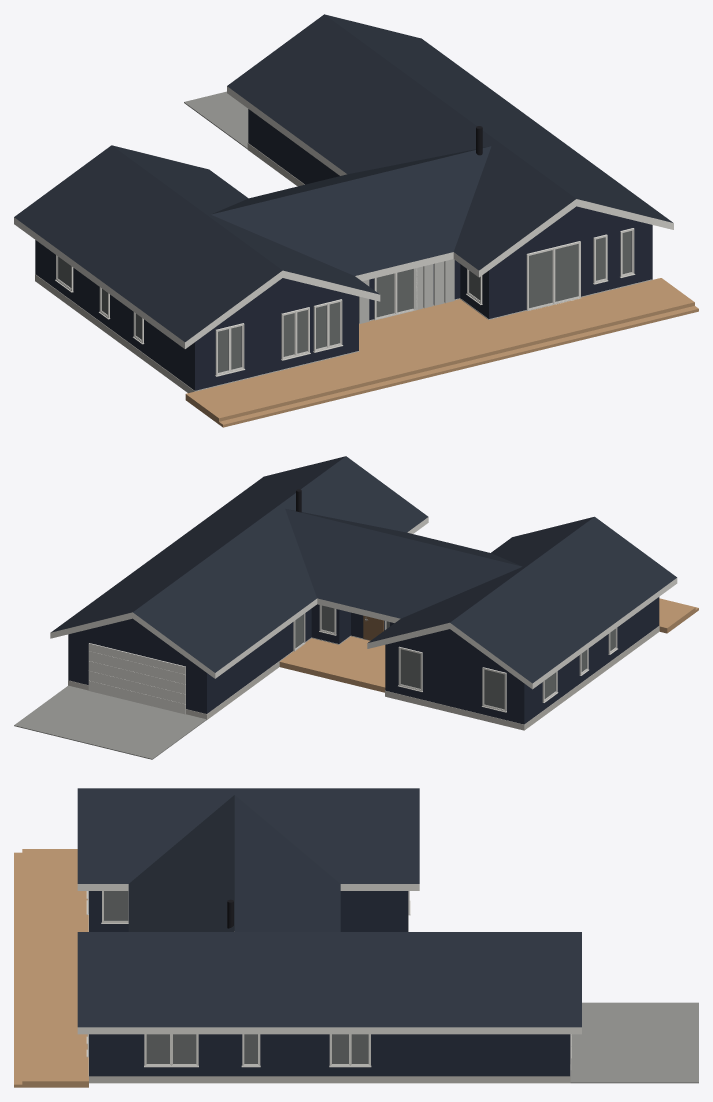
File: teder270_c0_p1_m0.glb
3 views of the same model, one above another, from view 1: azimuth 30°, elevation 25°; view 2: azimuth 150°, elevation 25°; view 3: azimuth 270°, elevation 25° (orthographic). The views are drawn at different scales.
Visible parts, largest first — view 1: roof, deck, wall, glass, curtain, fascia, frame, plinth, panel, paving; view 2: roof, wall, fascia, paving, deck, plinth, glass, curtain, frame; view 3: roof, wall, deck, paving, fascia, plinth, glass, curtain, frame.
Boxes of the visible parts, x1=… form: roof: x1=14, y1=14, x2=672, y2=341; deck: x1=185, y1=278, x2=698, y2=427; wall: x1=35, y1=109, x2=652, y2=390; glass: x1=57, y1=231, x2=631, y2=372; curtain: x1=58, y1=231, x2=631, y2=372; fascia: x1=14, y1=86, x2=673, y2=348; frame: x1=55, y1=228, x2=635, y2=376; plinth: x1=35, y1=143, x2=652, y2=393; panel: x1=359, y1=259, x2=454, y2=323; paving: x1=184, y1=91, x2=248, y2=149; roof: x1=51, y1=456, x2=676, y2=683; wall: x1=68, y1=597, x2=659, y2=724; fascia: x1=50, y1=517, x2=677, y2=714; paving: x1=14, y1=685, x2=206, y2=759; deck: x1=279, y1=598, x2=698, y2=692; plinth: x1=68, y1=626, x2=659, y2=730; glass: x1=295, y1=605, x2=615, y2=709; curtain: x1=295, y1=605, x2=615, y2=708; frame: x1=88, y1=605, x2=617, y2=712; roof: x1=77, y1=788, x2=581, y2=1027; wall: x1=89, y1=891, x2=570, y2=1076; deck: x1=14, y1=849, x2=88, y2=1087; paving: x1=570, y1=1002, x2=698, y2=1083; fascia: x1=77, y1=884, x2=581, y2=1070; plinth: x1=88, y1=915, x2=570, y2=1083; glass: x1=104, y1=891, x2=368, y2=1063; curtain: x1=104, y1=891, x2=368, y2=1063; frame: x1=86, y1=891, x2=571, y2=1067.
Size of the model in its own units: 21.93 by 5.66 by 26.62.
Materials: 14 (5 with a texture image).
